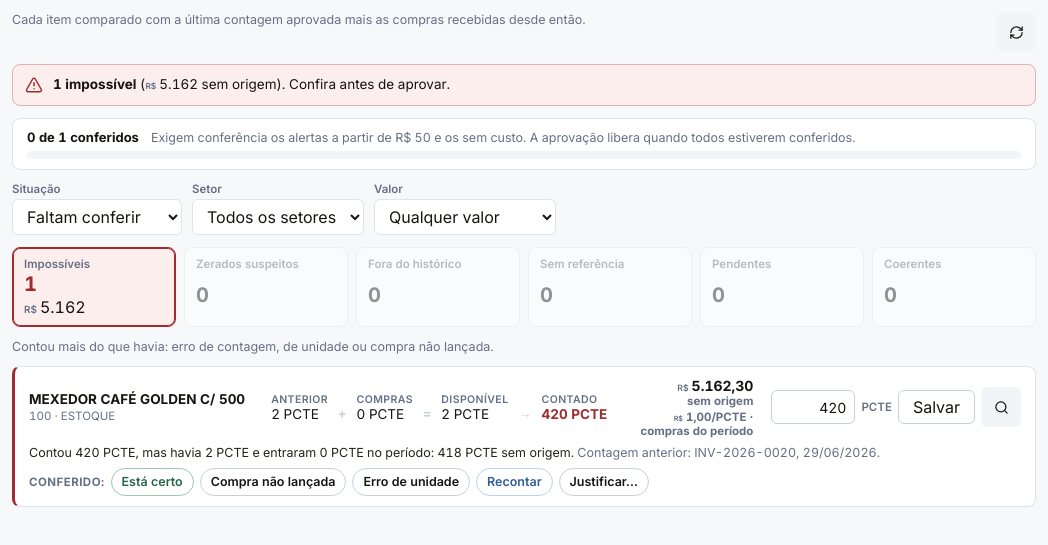
Test: ConferenciaInventario › erro ao marcar aparece no proprio cartao
Click the button "Está certo" at coordinates (152, 482), box [110,468,194,496]
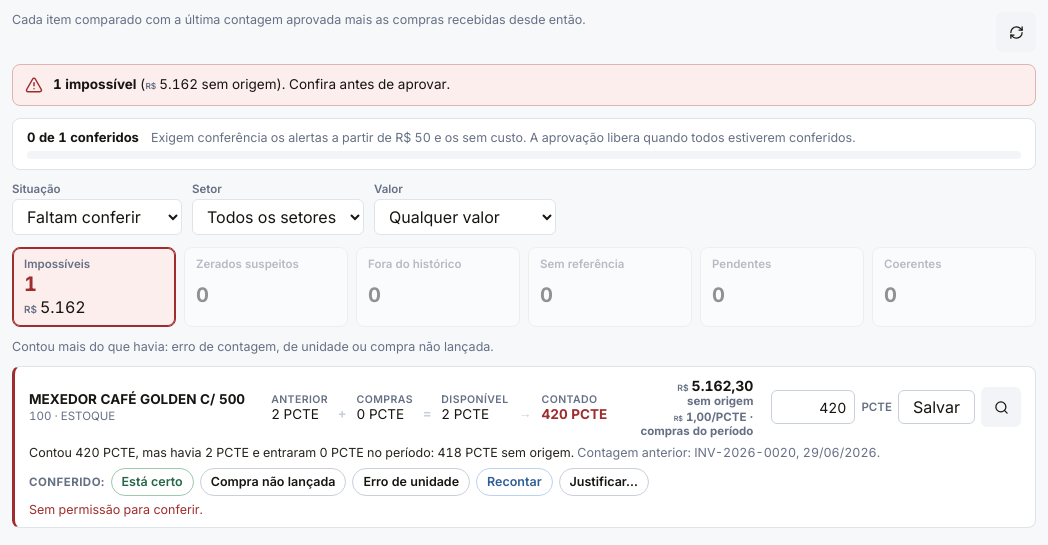
expect the message reads "Sem permissão para conferir.": met, box [29,502,203,517]
